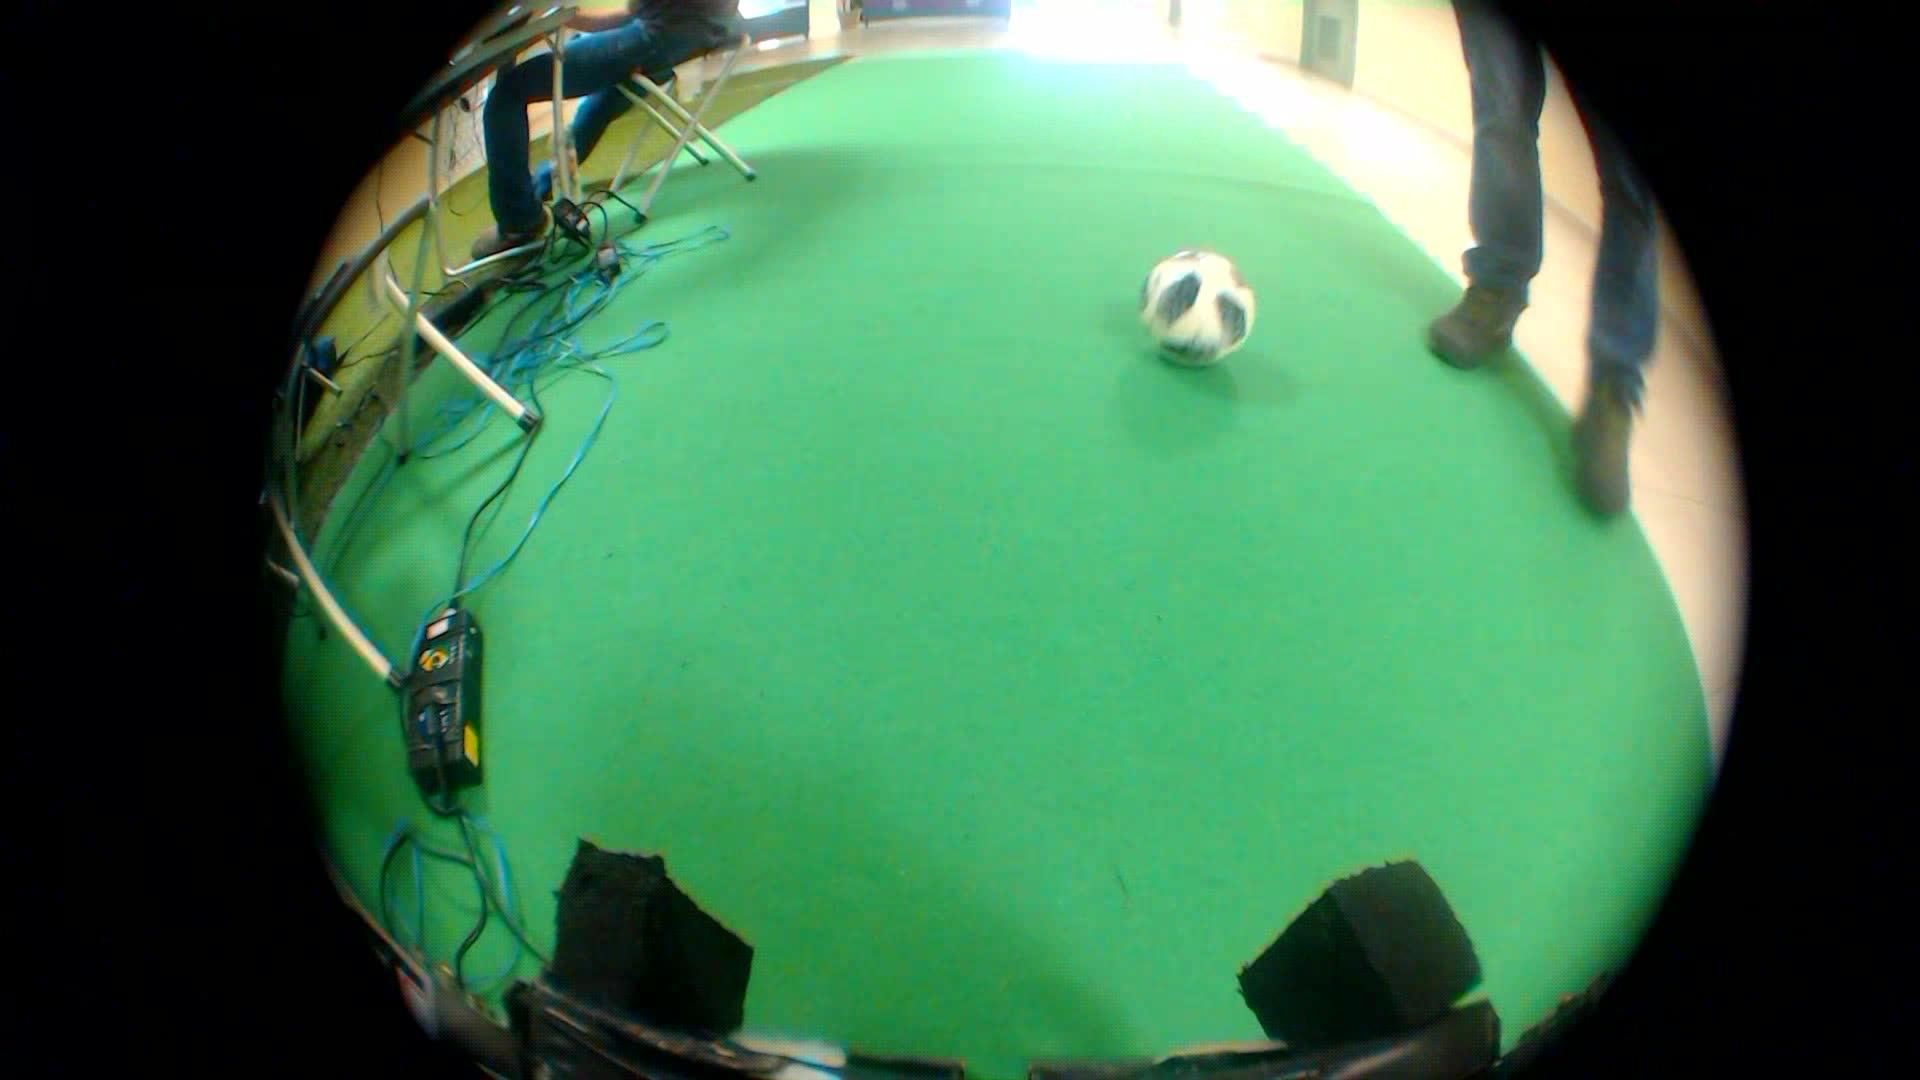ball: (1127, 239, 1261, 373)
